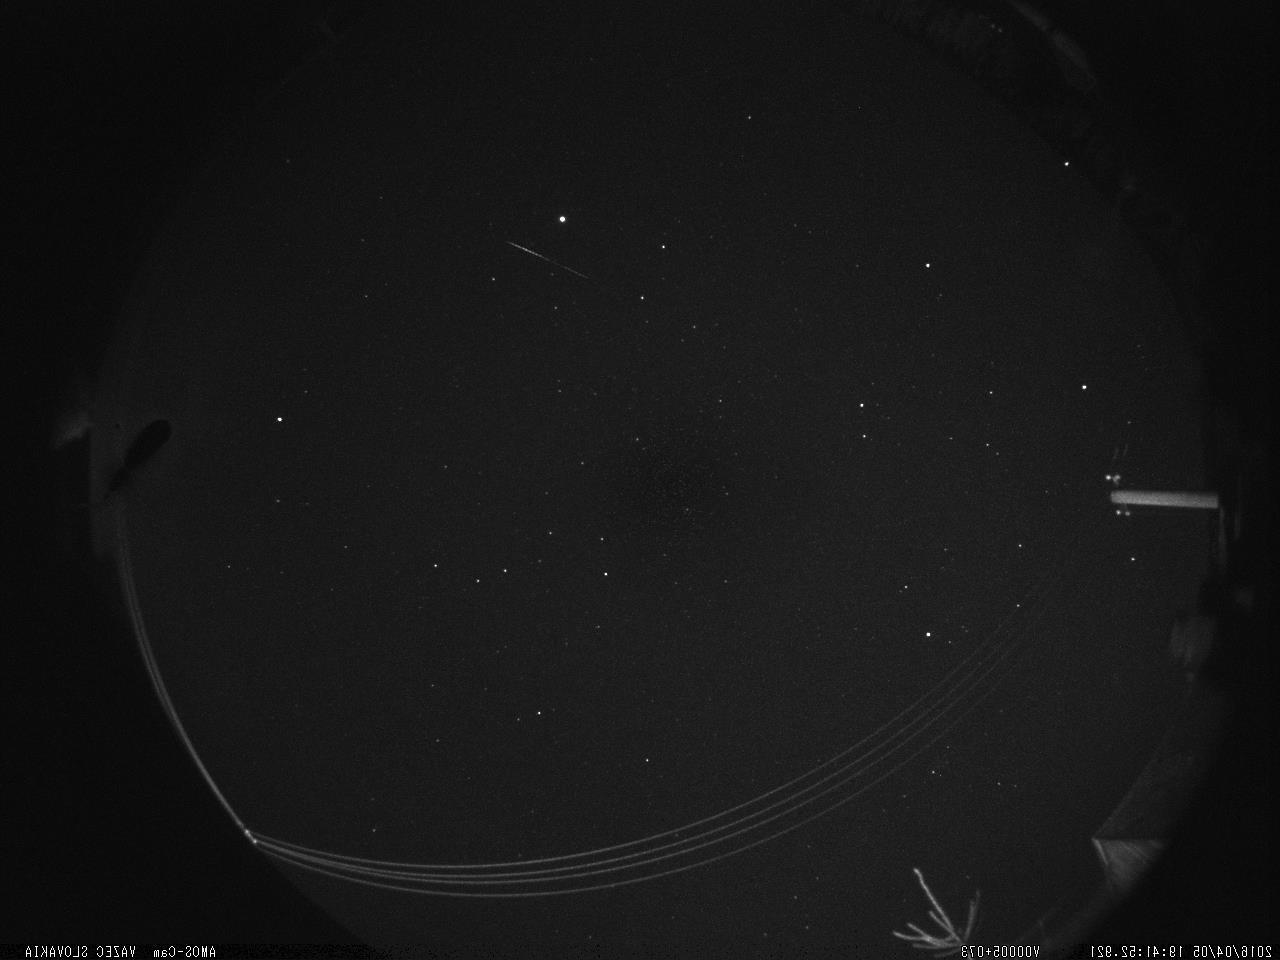meteor: (502, 235, 595, 281)
